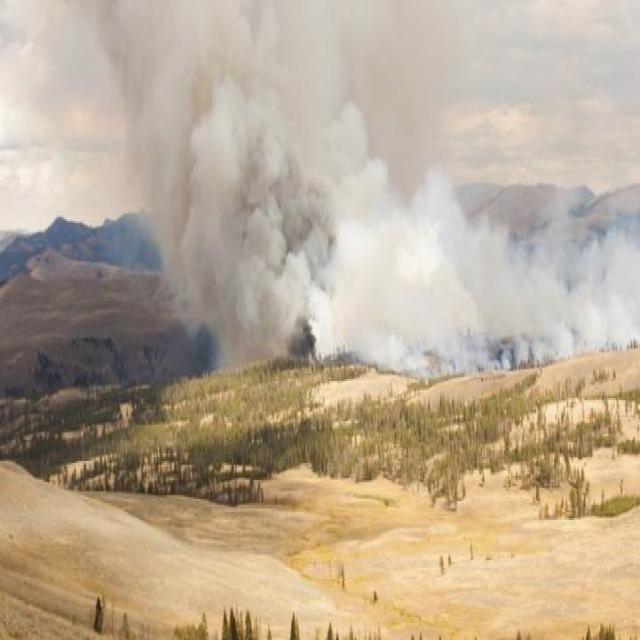Smoke: (107, 0, 640, 377)
